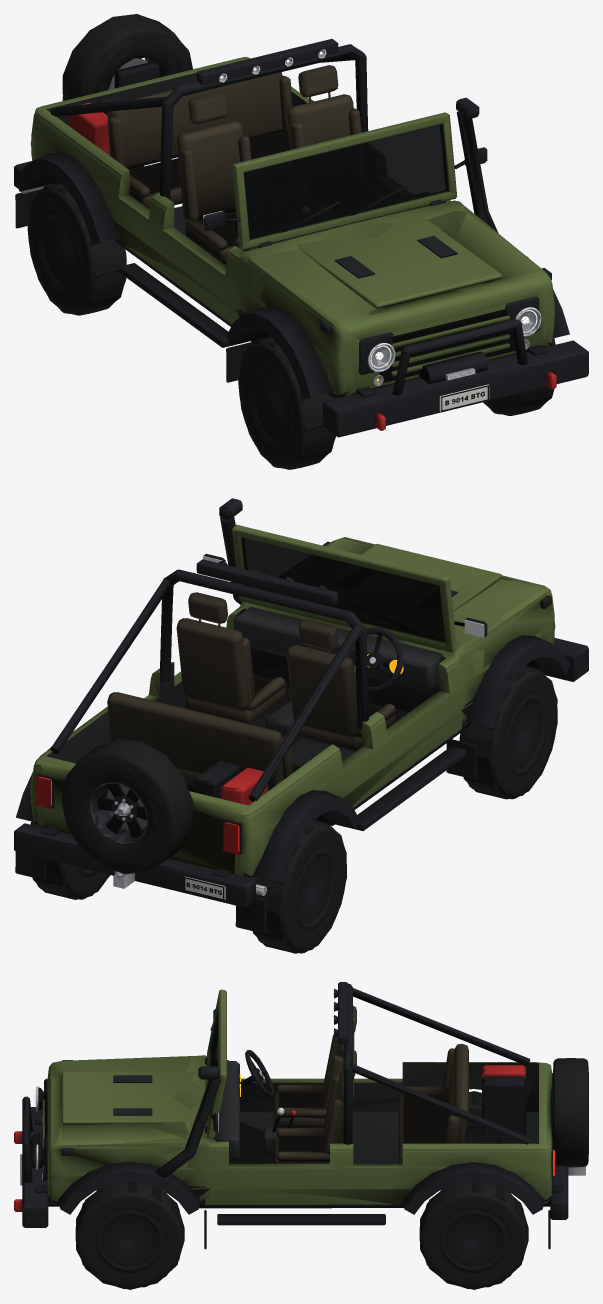
The model's file is banteng.glb.
3 renders of one model, top to bottom at view 1: azimuth 30°, elevation 25°; view 2: azimuth 150°, elevation 25°; view 3: azimuth 270°, elevation 25°, orthographic. The views are drawn at different scales.
Visible parts, largest first — view 1: body, lod1_rest, lod1_paint, lod1_glass, wheel_rr, wheel_fr, wheel_fl; view 2: body, lod1_rest, lod1_paint, lod1_glass, wheel_fr, wheel_rr, wheel_rl; view 3: body, lod1_rest, lod1_paint, wheel_rl, wheel_fl.
Part boxes in pixels (x1,y1,x2,y2): body: (14,14,588,437); lod1_rest: (14,14,588,469); lod1_paint: (30,56,555,397); lod1_glass: (244,125,445,237); wheel_rr: (27,183,126,315); wheel_fr: (238,337,335,469); wheel_fl: (483,338,555,415); body: (14,498,588,933); lod1_rest: (14,500,588,953); lod1_paint: (30,524,555,879); lod1_glass: (243,538,444,640); wheel_fr: (459,666,557,799); wheel_rr: (254,820,346,953); wheel_rl: (30,821,110,899); body: (14,982,588,1248); lod1_rest: (14,982,588,1289); lod1_paint: (43,990,551,1204); wheel_rl: (420,1182,527,1288); wheel_fl: (76,1182,183,1288).
Bounding box in the file's own units: 2.06 × 1.97 × 4.43.
